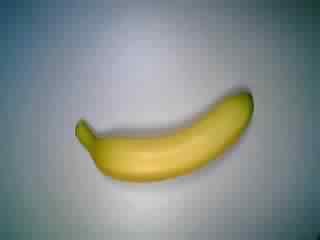banana: (69, 89, 258, 189)
